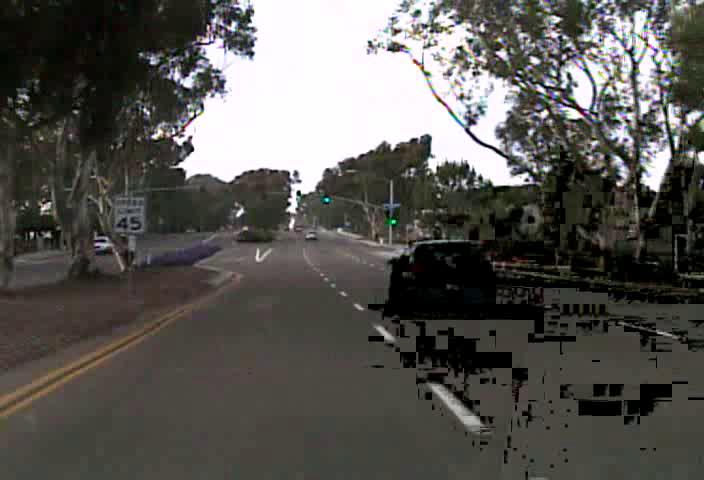speedLimit45: (112, 195, 146, 234)
